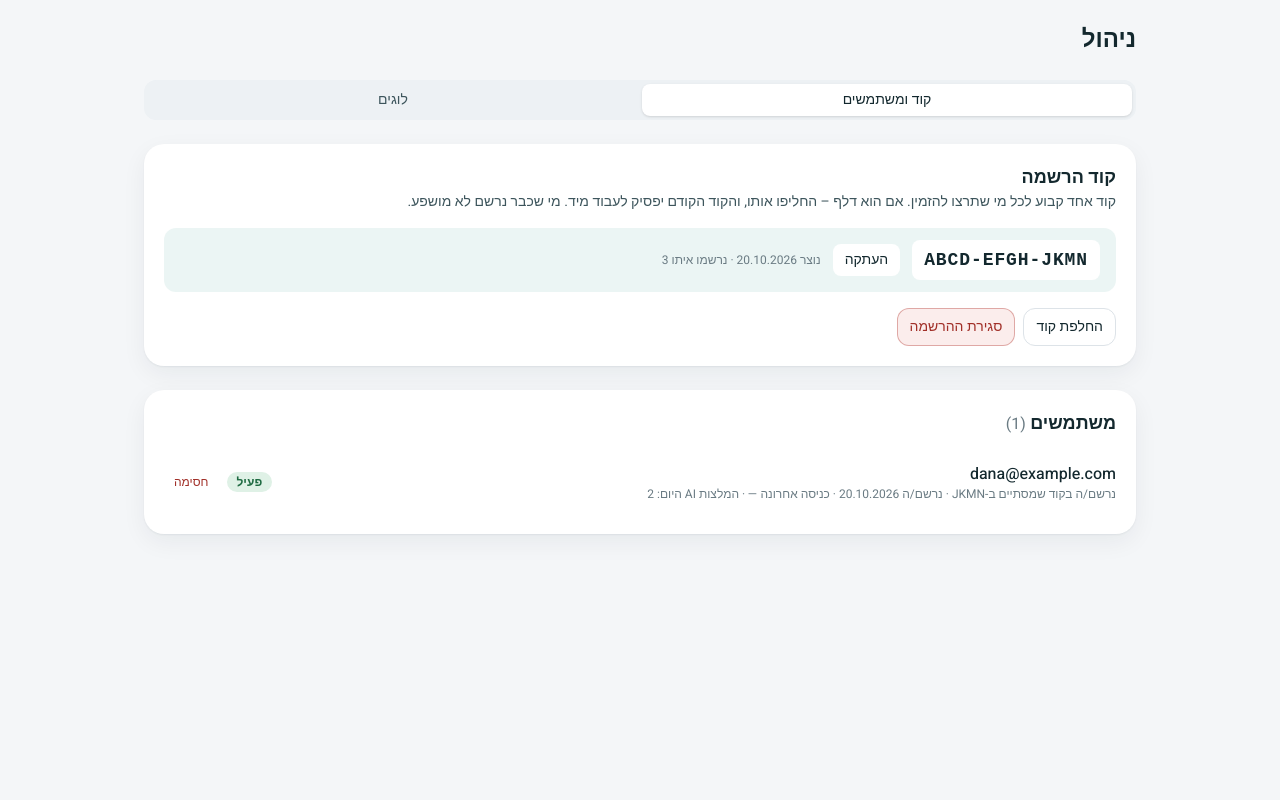
Test: AdminPage › closes registration and offers to create a new code
The image size is (1280, 800).
Expected: the text "ABCD-EFGH-JKMN" is shown, [912,240,1100,280]
Click the button "סגירת ההרשמה": (956, 327) [896,308,1015,346]
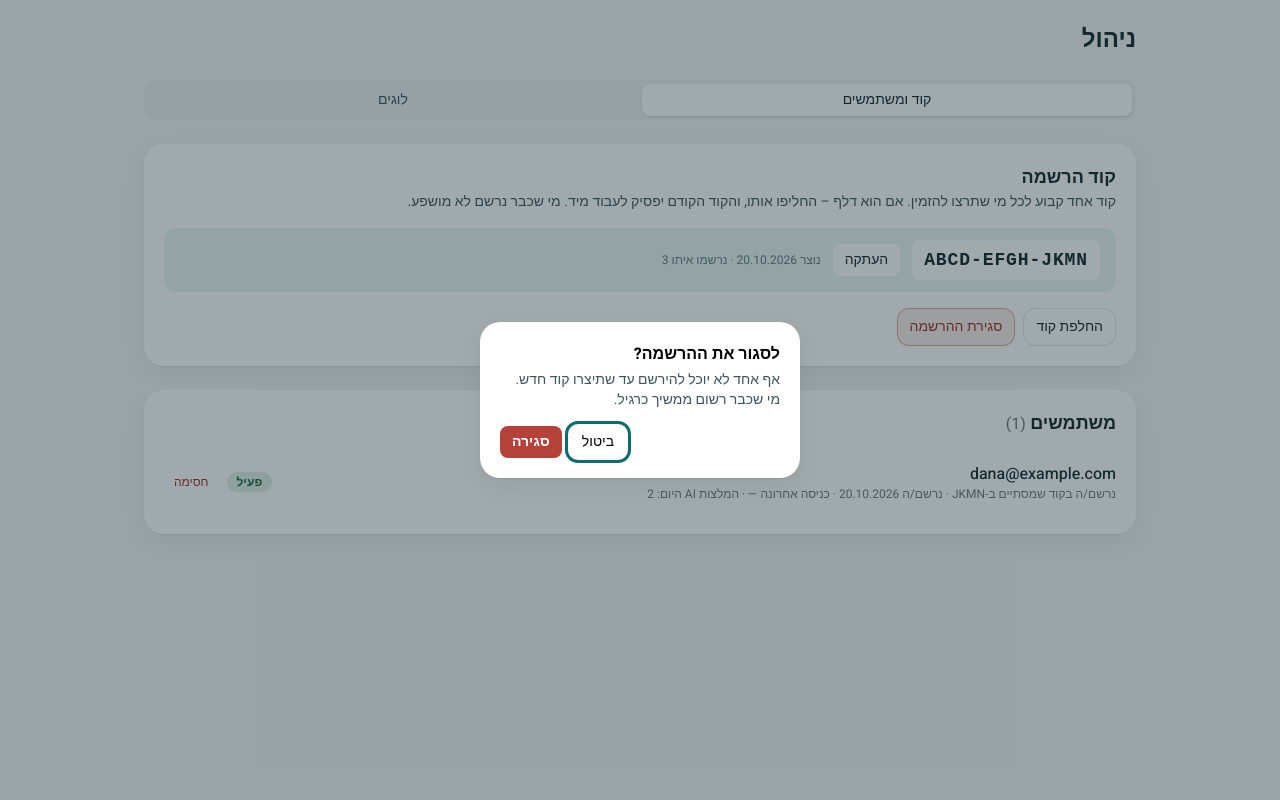
Click the button "סגירה": (531, 442) [500,426,562,458]
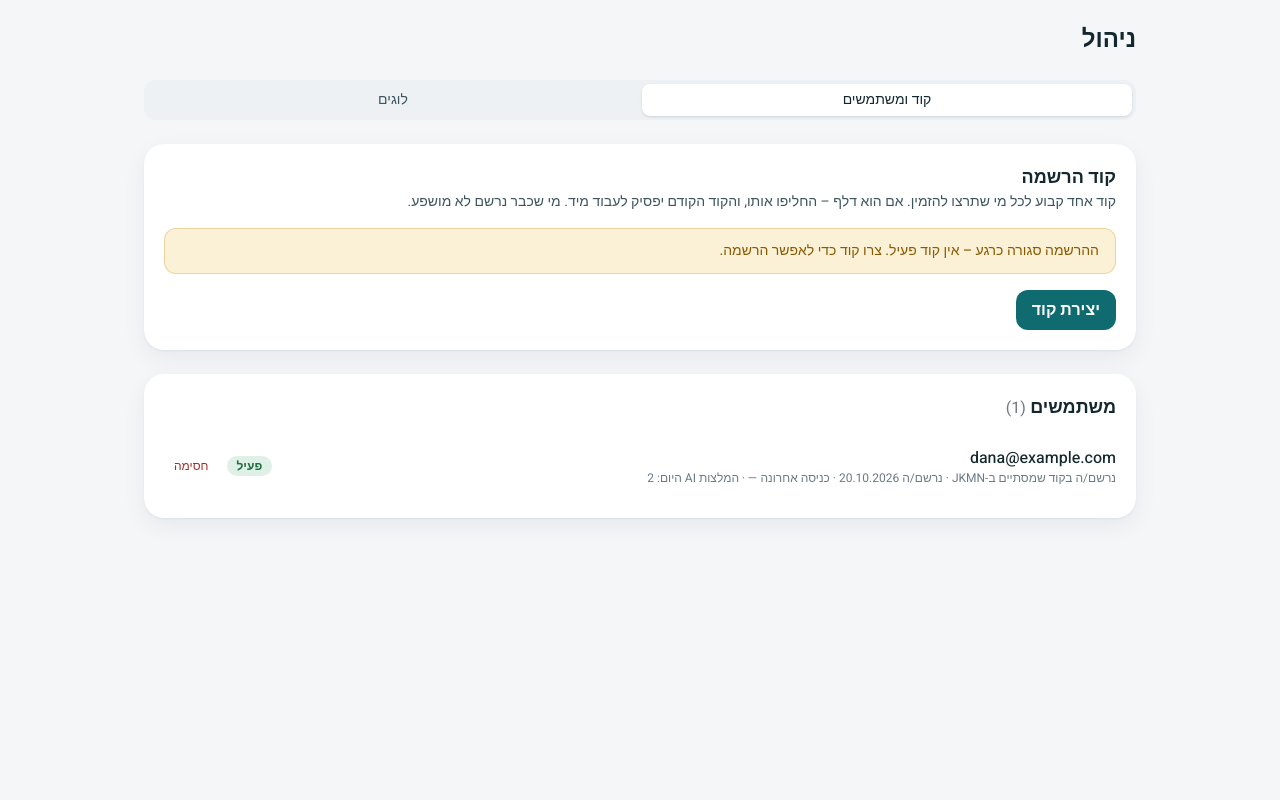
Expected: the text "ההרשמה סגורה כרגע – אין קוד פעיל. צרו קוד כדי לאפשר הרשמה." is shown, [164,228,1116,274]
Expected: the button "יצירת קוד" is shown, [1016,290,1116,330]
